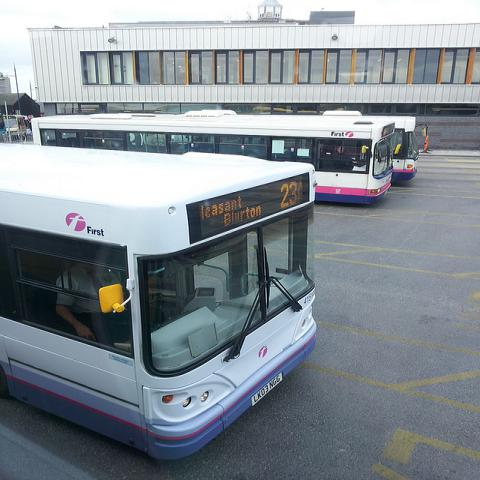bus: (0, 144, 318, 464), (32, 120, 397, 206), (38, 111, 418, 188)
